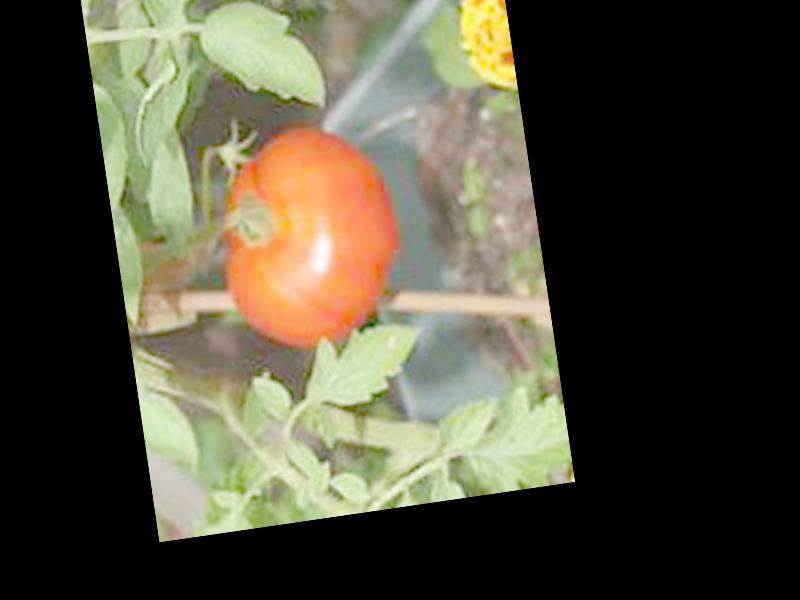Tomato: (205, 115, 411, 361)
